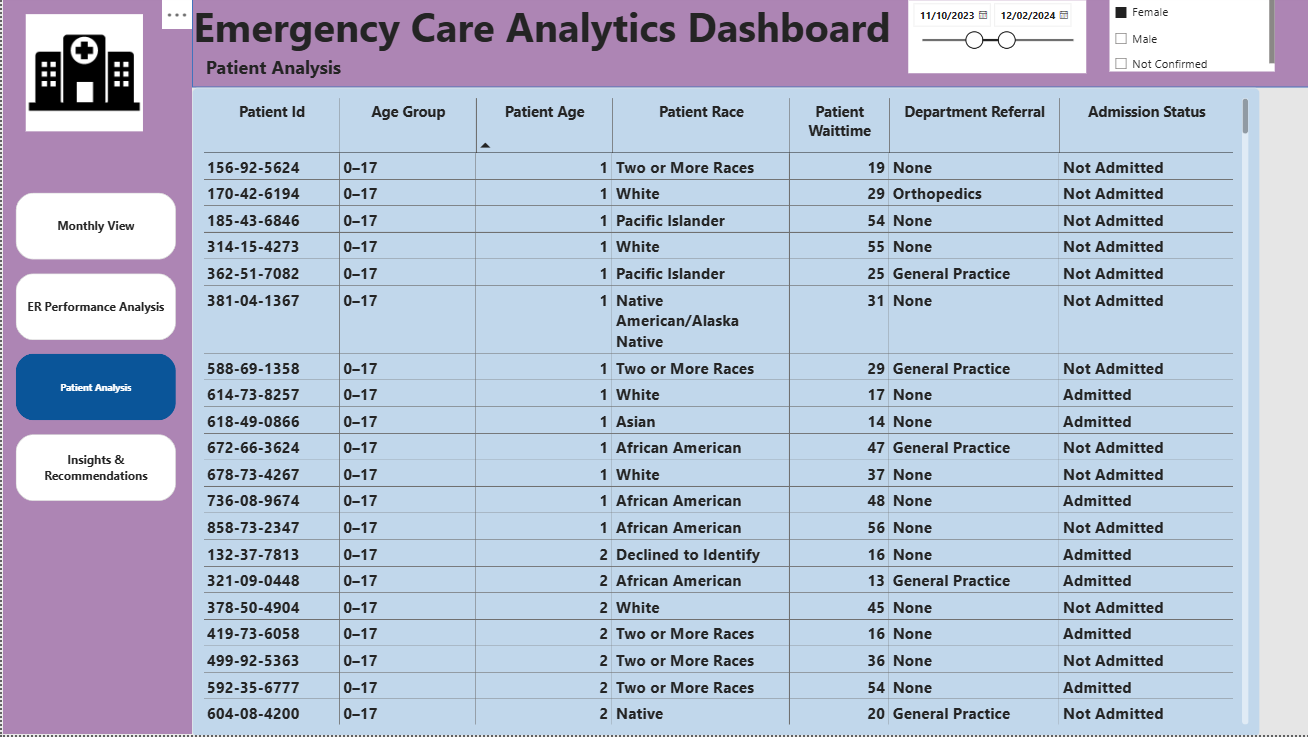

The dashboard page shown, as its layout file describes it:
{"tool":"powerbi","page":{"name":"Patient Analysis","canvas":[1920,1080],"ordinal":2},"visuals":[{"type":"shape","box":[0,0,279.9,1080.6],"z":0},{"type":"shape","box":[279.7,0,1640.5,129.7],"z":1000},{"type":"textbox","box":[280.3,0,1640.5,117.3],"z":2000},{"type":"textbox","box":[298.4,81.4,377.7,48],"z":3000},{"type":"tableEx","fields":{"Values":["Hospital ER_Data.Patient Id","Hospital ER_Data.Age Group","Hospital ER_Data.Patient Age","Hospital ER_Data.Patient Race","Hospital ER_Data.Patient Waittime","Hospital ER_Data.Department Referral","Hospital ER_Data.Admission Status"]},"box":[279.7,129.4,1567.3,951.7],"z":4000},{"type":"slicer","fields":{"Values":["Hospital ER_Data.Patient Admin Date"]},"box":[1329.1,1.8,260.9,106.4],"z":5000},{"type":"slicer","fields":{"Values":["Hospital ER_Data.Patient Gender"]},"box":[1625.7,0,242.1,106.4],"z":6000},{"type":"pageNavigator","box":[19.9,284.1,235.3,454.2],"z":7000},{"type":"image","box":[35.2,11.1,172.4,194.6],"z":7001}]}

Visuals, with their boxes on the page's 1920x1080 design canvas (x1, y1, x2, y2). These are canvas units, not pixel positions in the 1308x737 screenshot, which may show the page scaled, cropped or inside an application window:
shape: x1=0, y1=0, x2=280, y2=1081
shape: x1=280, y1=0, x2=1920, y2=130
textbox: x1=280, y1=0, x2=1921, y2=117
textbox: x1=298, y1=81, x2=676, y2=129
tableEx - Hospital ER_Data.Patient Id x Hospital ER_Data.Age Group: x1=280, y1=129, x2=1847, y2=1081
slicer - Hospital ER_Data.Patient Admin Date: x1=1329, y1=2, x2=1590, y2=108
slicer - Hospital ER_Data.Patient Gender: x1=1626, y1=0, x2=1868, y2=106
pageNavigator: x1=20, y1=284, x2=255, y2=738
image: x1=35, y1=11, x2=208, y2=206
